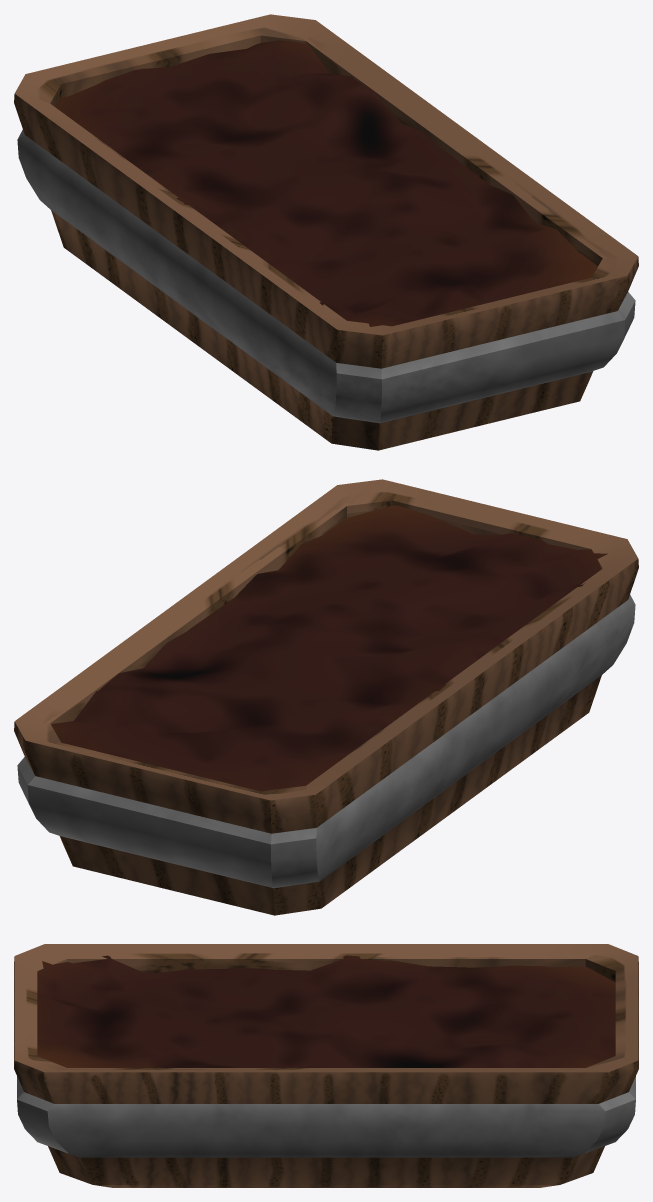
File: Planter.fbx
3 renders of one model, top to bottom at view 1: azimuth 30°, elevation 25°; view 2: azimuth 150°, elevation 25°; view 3: azimuth 270°, elevation 25°, orthographic. The views are drawn at different scales.
Parts seen in each view (by area): view 1: Planter; view 2: Planter; view 3: Planter.
Boxes of the visible parts, left/top/right/bottom form: Planter: left=14, top=14, right=638, bottom=450; Planter: left=14, top=479, right=638, bottom=915; Planter: left=14, top=944, right=638, bottom=1187.
Size of the model in its own units: 691 by 323 by 1418.
Materials: 1 (1 with a texture image).
